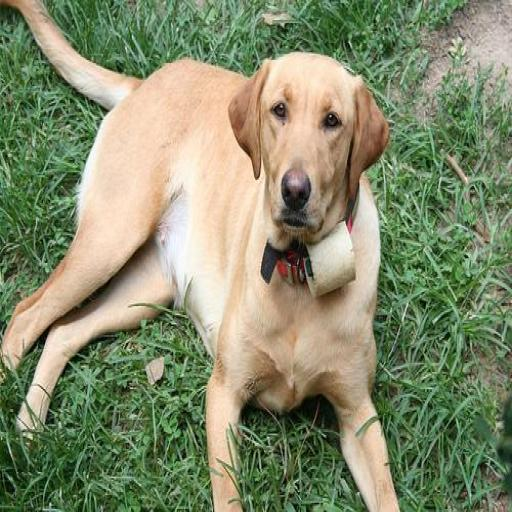dog_face: (236, 51, 389, 240)
